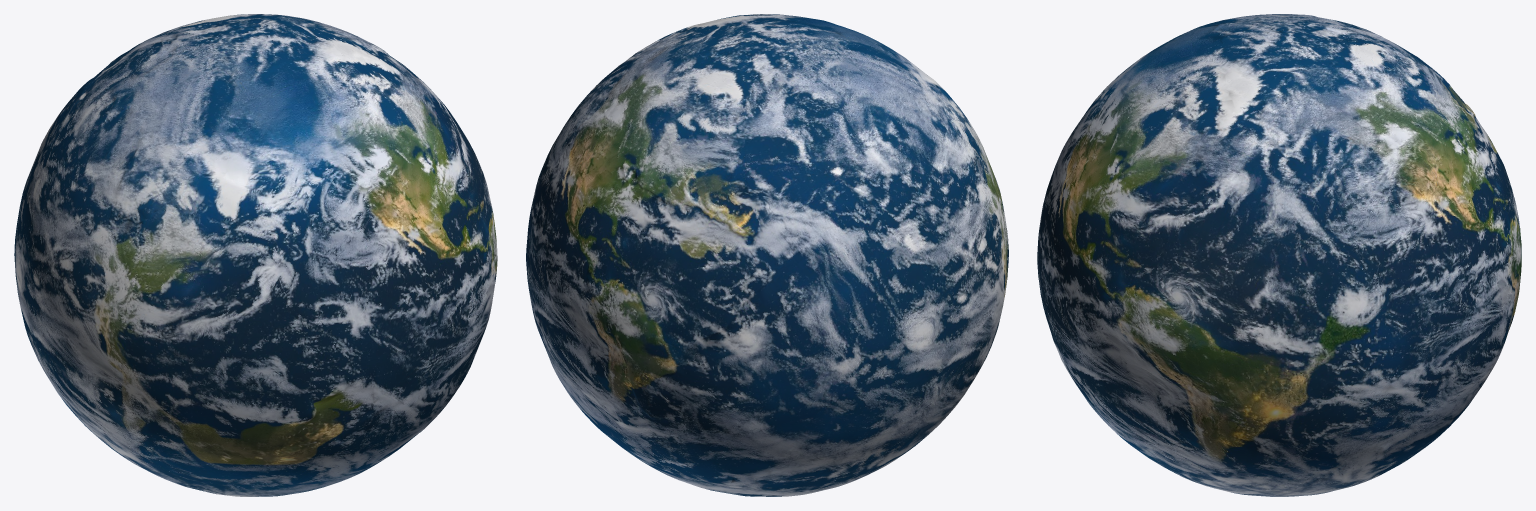
The model's file is earth.glb.
3 renders of one model, left to right at view 1: azimuth 30°, elevation 25°; view 2: azimuth 150°, elevation 25°; view 3: azimuth 270°, elevation 25°, orthographic.
Bounding box in the file's own units: 1.9 × 1.9 × 1.9.
1 material, 1 textured.
